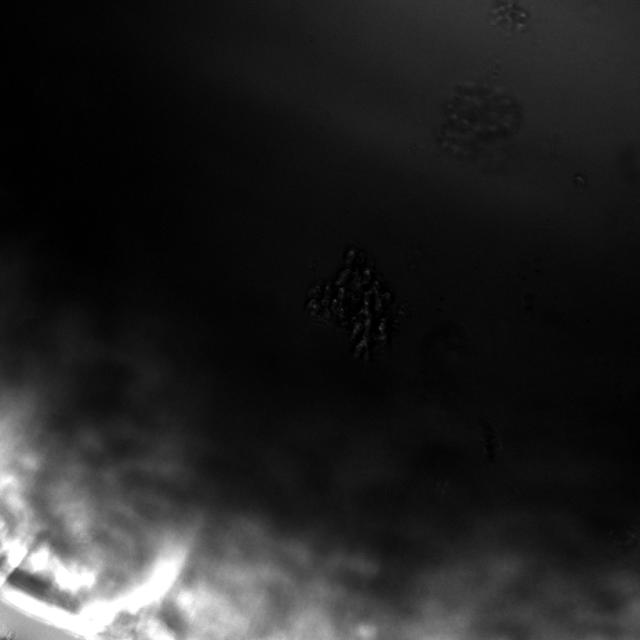organoid: (305, 247, 407, 361), (438, 81, 522, 162), (489, 0, 530, 31)
